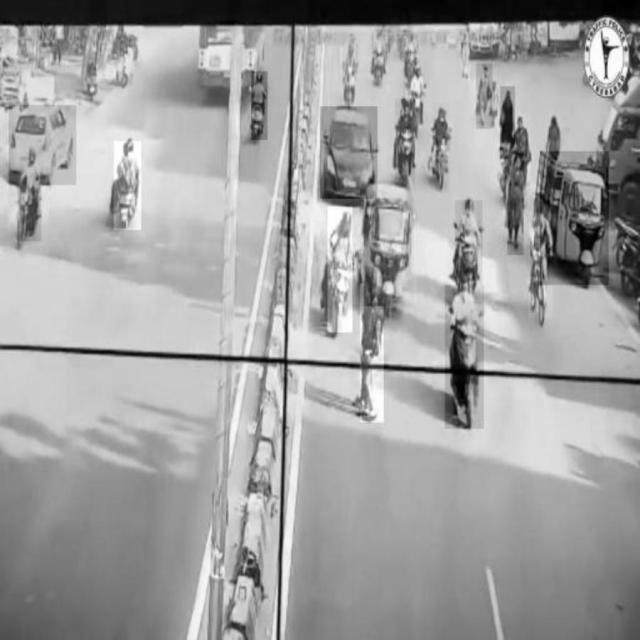person: (360, 284, 384, 422), (508, 153, 524, 255), (500, 87, 515, 159), (477, 64, 493, 128)
vehicle: (540, 152, 608, 286), (364, 180, 414, 306), (445, 285, 483, 429), (9, 105, 76, 185), (320, 106, 377, 198), (327, 207, 353, 333), (455, 200, 482, 301), (529, 213, 553, 319), (114, 142, 141, 230), (17, 146, 41, 242), (396, 100, 416, 184), (433, 102, 450, 193), (252, 72, 268, 140)
